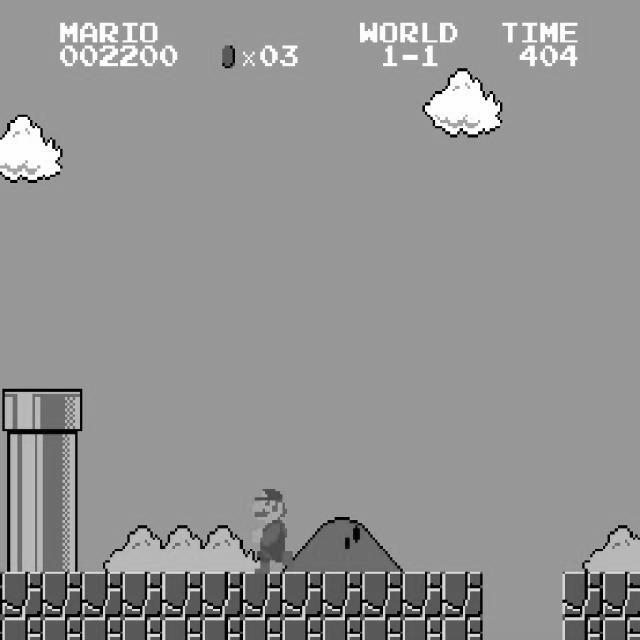0- big_mario: (250, 480, 293, 574)
14- pipe: (2, 434, 43, 480), (2, 480, 43, 526), (2, 526, 43, 572), (42, 434, 83, 480), (42, 480, 83, 526), (42, 526, 83, 572)
15- pipe_head: (2, 388, 43, 434), (42, 388, 83, 434)
17- undestructible_block: (2, 572, 43, 618), (42, 572, 83, 618), (82, 572, 123, 618), (122, 572, 163, 618), (162, 572, 203, 618), (202, 572, 243, 618), (242, 572, 283, 618), (282, 572, 323, 618), (322, 572, 363, 618), (362, 572, 403, 618), (402, 572, 443, 618), (442, 572, 483, 618), (562, 572, 603, 618), (603, 572, 640, 618), (2, 617, 43, 640), (42, 617, 83, 640), (82, 617, 123, 640), (122, 617, 163, 640), (162, 617, 203, 640), (202, 617, 243, 640), (242, 617, 283, 640), (282, 617, 323, 640), (322, 617, 363, 640), (362, 617, 403, 640), (402, 617, 443, 640), (442, 617, 483, 640), (562, 617, 603, 640), (603, 617, 640, 640), (0, 571, 2, 617), (0, 617, 2, 639)
